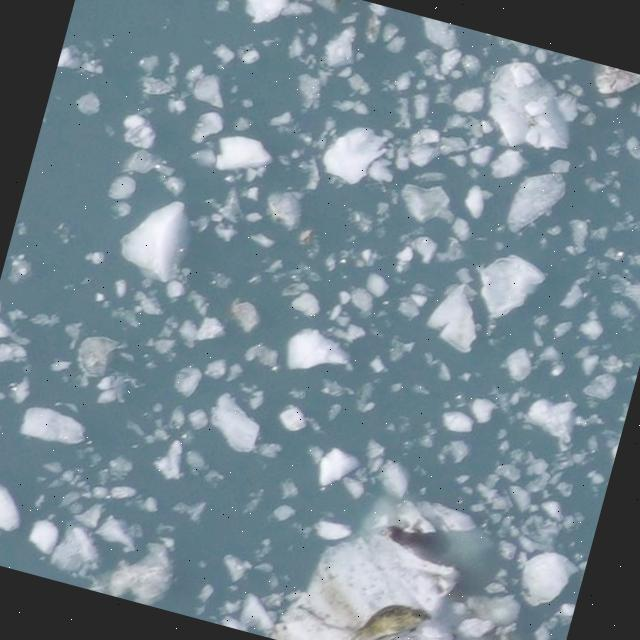seal: (339, 592, 433, 640)
